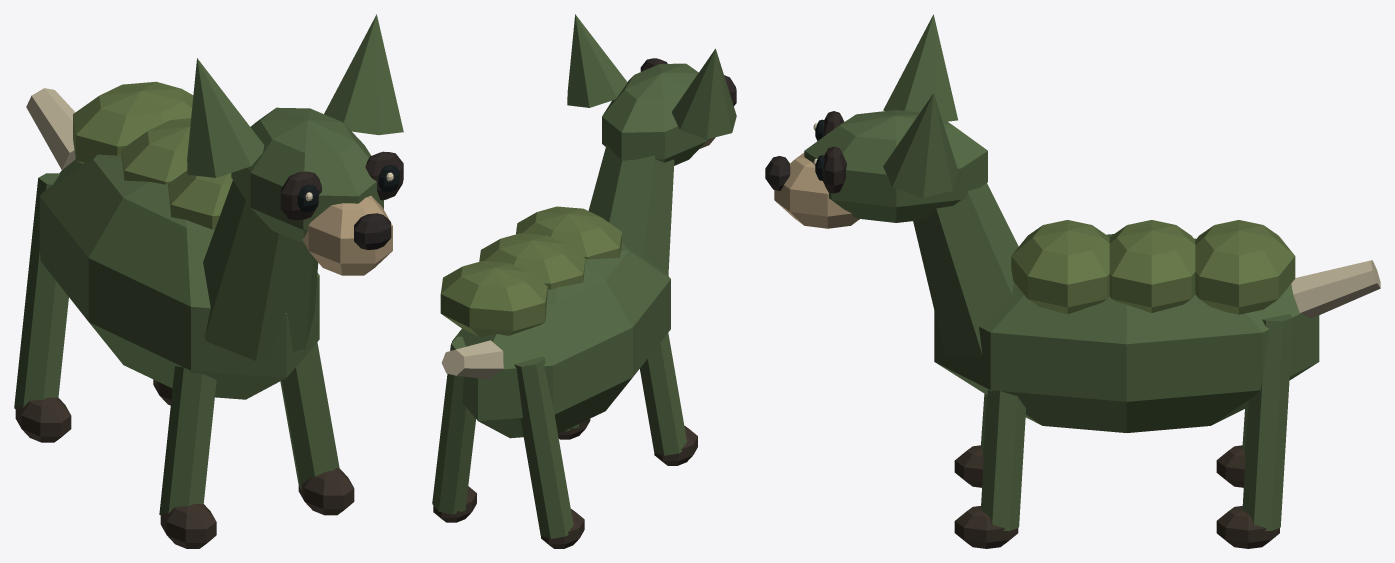
The model's file is fauna-thornhide_doe.glb.
The picture shows the model from 3 angles, left to right: view 1: azimuth 30°, elevation 25°; view 2: azimuth 150°, elevation 25°; view 3: azimuth 270°, elevation 25°; orthographic projection. The views are drawn at different scales.
Parts seen in each view (by area): view 1: Fauna_thornhide_doe; view 2: Fauna_thornhide_doe; view 3: Fauna_thornhide_doe.
Boxes of the visible parts, x1,y1,x2,y2 form: Fauna_thornhide_doe: [14, 14, 403, 548]; Fauna_thornhide_doe: [432, 14, 736, 548]; Fauna_thornhide_doe: [765, 14, 1380, 548].
Bounding box in the file's own units: 0.7035 × 1.64 × 1.98.
